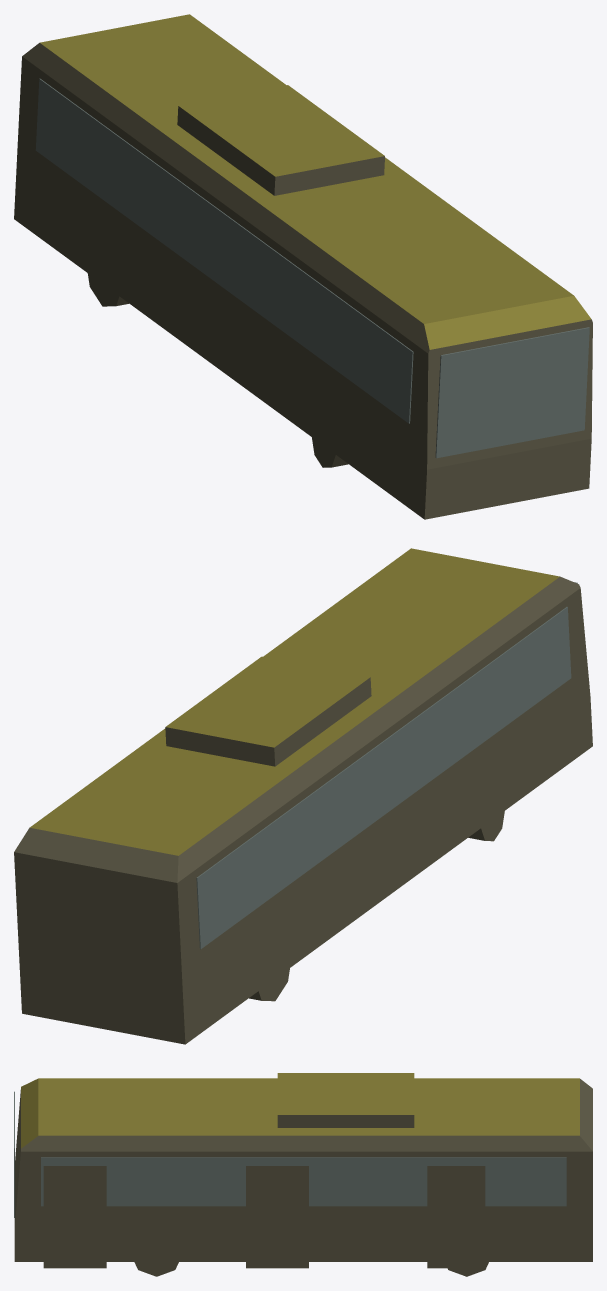
Rendered from SM_Autobus_v2_Pinchado_LOD1.fbx.
The picture shows the model from 3 angles, top to bottom: view 1: azimuth 30°, elevation 25°; view 2: azimuth 150°, elevation 25°; view 3: azimuth 270°, elevation 25°; orthographic projection. The views are drawn at different scales.
Parts seen in each view (by area): view 1: SM_autobus_v2_LOD1; view 2: SM_autobus_v2_LOD1; view 3: SM_autobus_v2_LOD1.
Part boxes in pixels (left/top/right/bottom): SM_autobus_v2_LOD1: left=14, top=14, right=592, bottom=519; SM_autobus_v2_LOD1: left=14, top=548, right=592, bottom=1044; SM_autobus_v2_LOD1: left=14, top=1073, right=592, bottom=1276.
Bounding box in the file's own units: 2.7 × 3.37 × 11.02.
